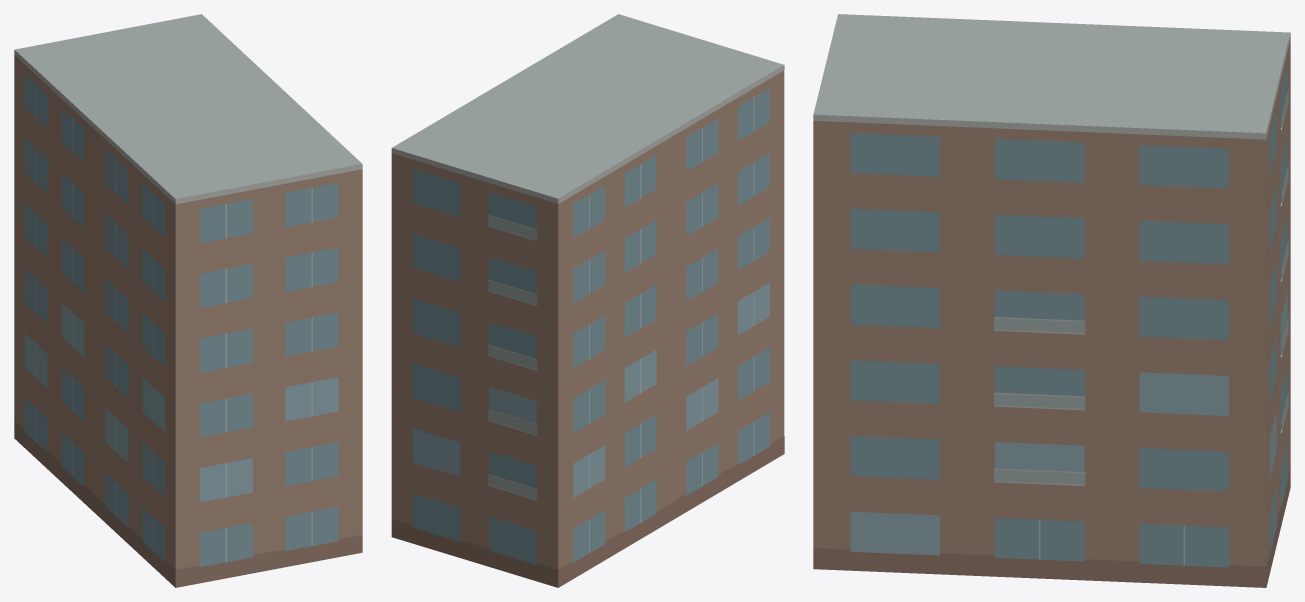
File: survey-upis-32565305.glb
The picture shows the model from 3 angles, left to right: view 1: azimuth 30°, elevation 25°; view 2: azimuth 150°, elevation 25°; view 3: azimuth 270°, elevation 25°; orthographic projection. The views are drawn at different scales.
Visible parts, largest first — view 1: survey-upis-32565305.tmp; view 2: survey-upis-32565305.tmp; view 3: survey-upis-32565305.tmp.
Boxes of the visible parts, x1,y1,x2,y2 form: survey-upis-32565305.tmp: (14, 14, 362, 587); survey-upis-32565305.tmp: (391, 14, 784, 587); survey-upis-32565305.tmp: (813, 14, 1290, 587).
Size of the model in its own units: 10.09 by 17.9 by 17.05.
